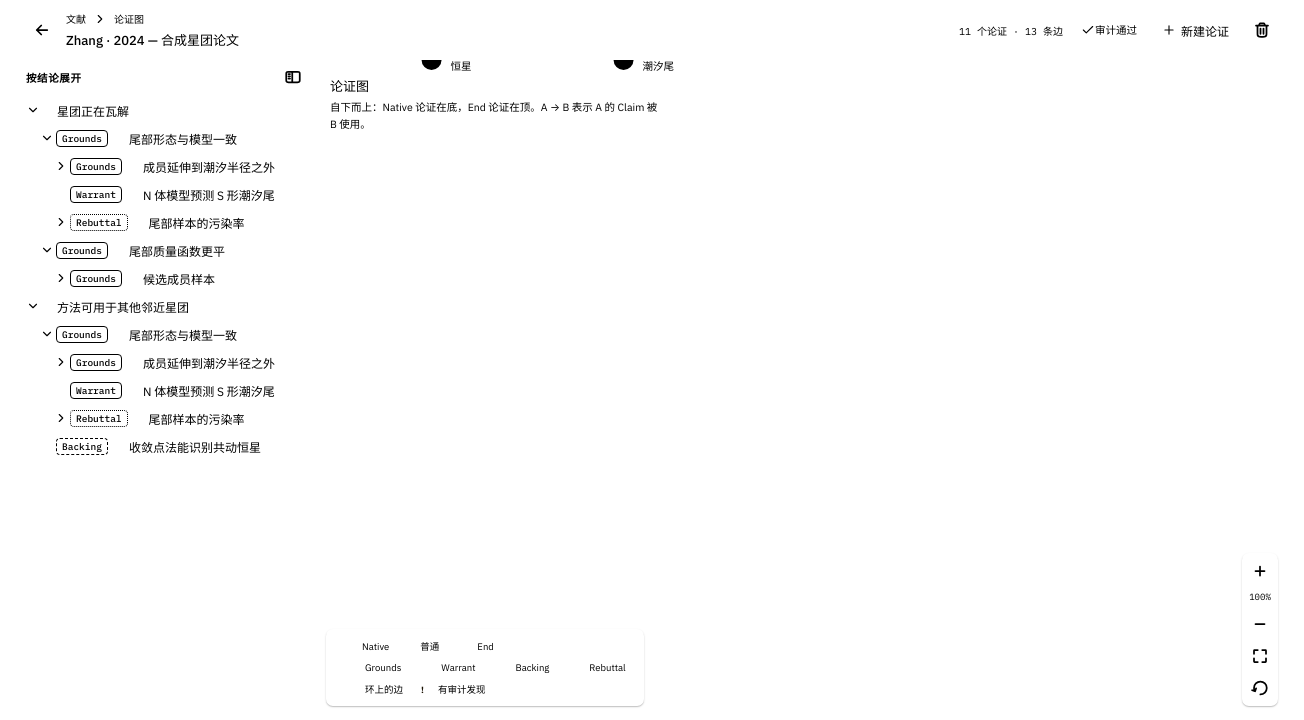
Test: linking from the panel › a write that loses the race to another writer says so and loads the latest, nothing is overwritten
Click the button "Grounds 候选成员样本". click: click(189, 278)
box: [70,266,308,290]
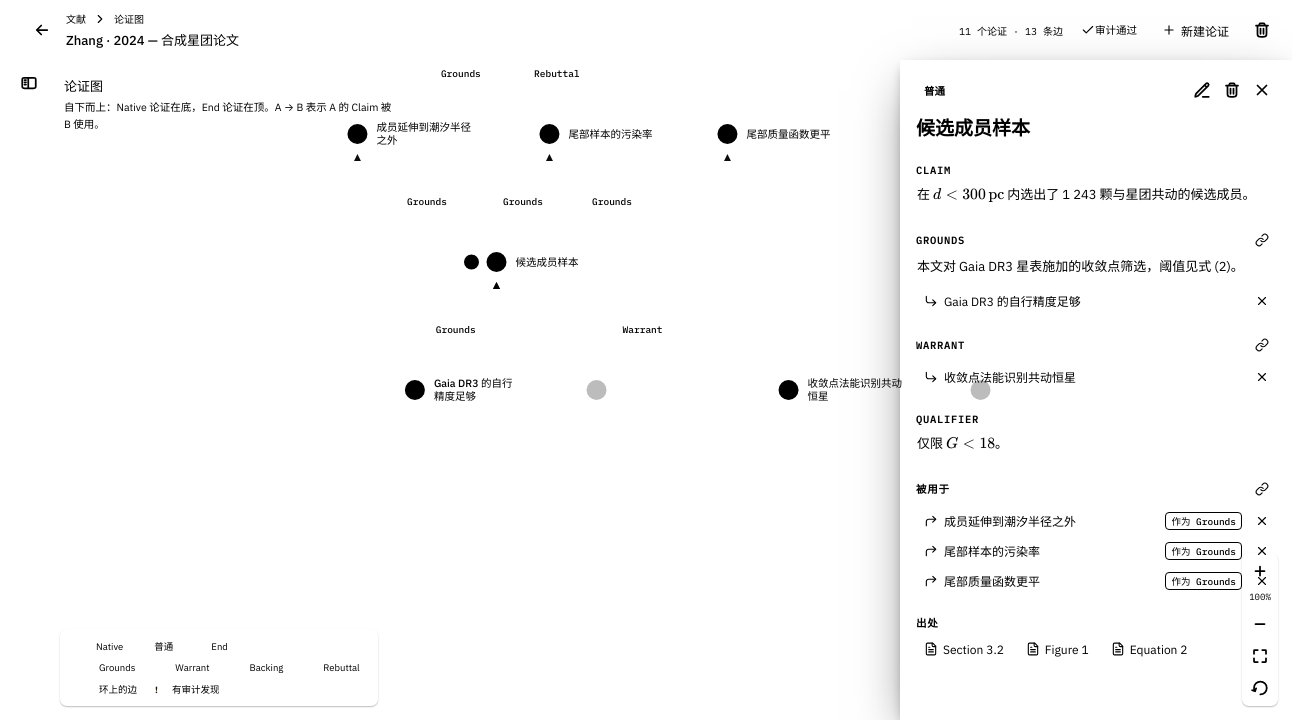
Click the button named "移除这条关系：Gaia DR3 的自行精度足够". click: click(1262, 300)
box: [1248,286,1276,314]
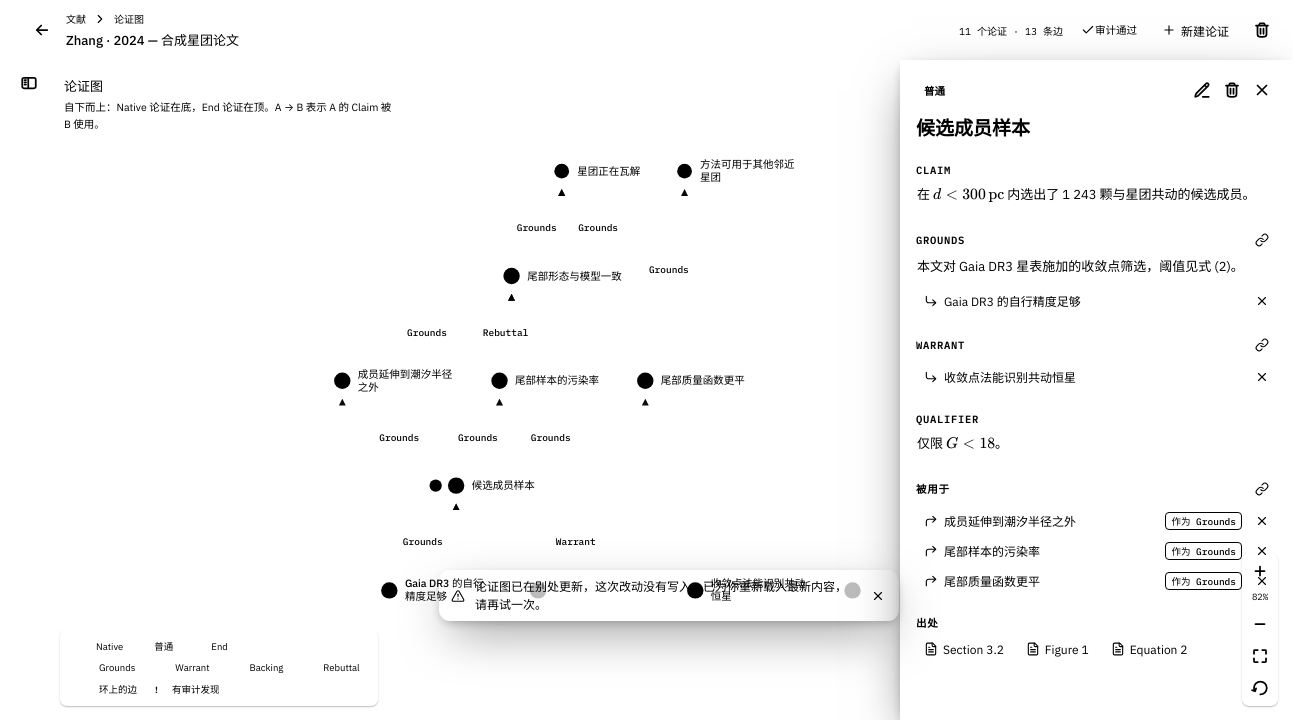
expect the text "论证图已在别处更新，这次改动没有写入；已为你重新载入最新内容，请再试一次。" is shown: met, box [475,578,855,613]
